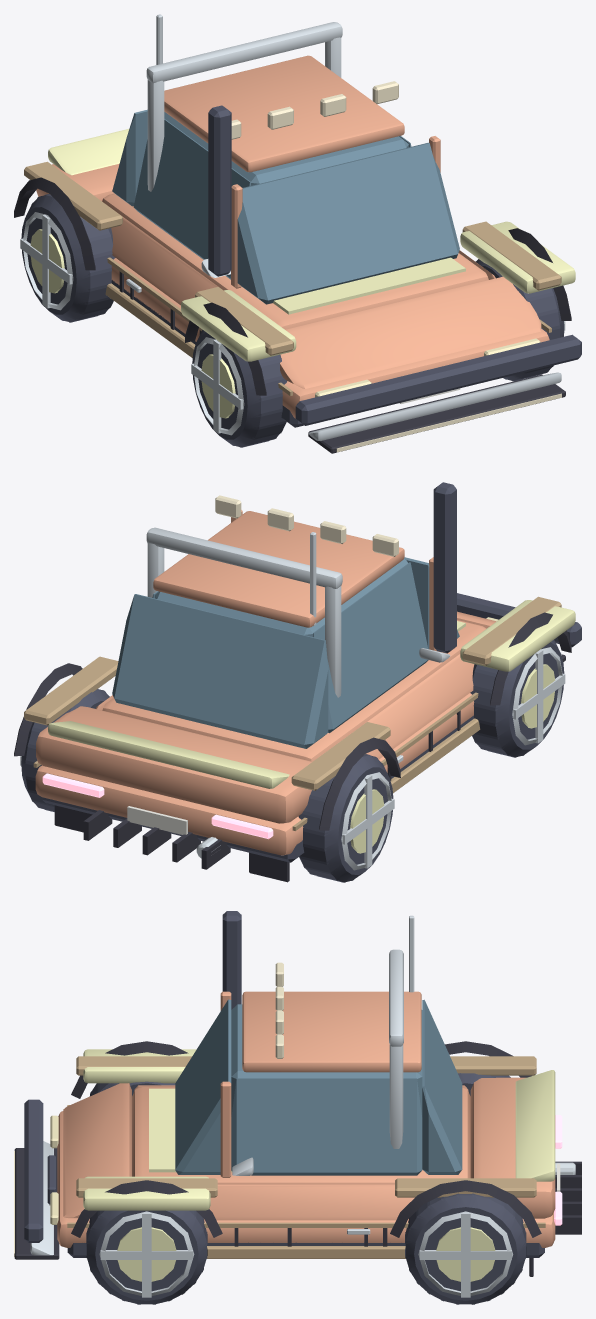
The model's file is redclay_runner.fbx.
The picture shows the model from 3 angles, top to bottom: view 1: azimuth 30°, elevation 25°; view 2: azimuth 150°, elevation 25°; view 3: azimuth 270°, elevation 25°; orthographic projection. The views are drawn at different scales.
Visible parts, largest first — view 1: Body, Glass, Trim2, Accent3, Accent2, Accent, Trim, Wheel_RR, Wheel_FR, Metal, Light, Metal2 (+2 smaller); view 2: Body, Glass, Accent, Trim, Accent3, Accent2, Trim2, Wheel_RR, Metal, Wheel_FR, Metal2, Light (+3 smaller); view 3: Body, Glass, Accent3, Accent, Trim, Wheel_RL, Metal, Trim2, Wheel_FL, Accent2, Metal2, Light (+2 smaller).
Boxes of the visible parts, bbox=[...] form: Body: bbox=[36, 55, 549, 418]; Glass: bbox=[112, 109, 459, 304]; Trim2: bbox=[111, 105, 581, 427]; Accent3: bbox=[48, 129, 575, 361]; Accent2: bbox=[146, 14, 561, 440]; Accent: bbox=[24, 161, 561, 395]; Trim: bbox=[14, 177, 571, 453]; Wheel_RR: bbox=[21, 194, 115, 322]; Wheel_FR: bbox=[192, 329, 287, 447]; Metal: bbox=[20, 212, 565, 435]; Light: bbox=[231, 81, 561, 452]; Metal2: bbox=[30, 229, 235, 418]; Body: bbox=[35, 510, 496, 855]; Glass: bbox=[112, 557, 459, 748]; Accent: bbox=[24, 596, 561, 830]; Trim: bbox=[14, 612, 571, 882]; Accent3: bbox=[48, 600, 575, 788]; Accent2: bbox=[146, 527, 561, 697]; Trim2: bbox=[40, 482, 581, 862]; Wheel_RR: bbox=[298, 754, 393, 882]; Metal: bbox=[20, 647, 565, 870]; Wheel_FR: bbox=[470, 640, 564, 757]; Metal2: bbox=[350, 664, 555, 853]; Light: bbox=[215, 495, 398, 556]; Body: bbox=[57, 991, 555, 1247]; Glass: bbox=[175, 999, 462, 1175]; Accent3: bbox=[83, 1049, 555, 1210]; Accent: bbox=[67, 1056, 545, 1258]; Trim: bbox=[14, 1041, 581, 1276]; Wheel_RL: bbox=[405, 1193, 526, 1304]; Metal: bbox=[99, 1162, 575, 1297]; Trim2: bbox=[24, 911, 544, 1257]; Wheel_FL: bbox=[86, 1210, 207, 1304]; Accent2: bbox=[30, 915, 414, 1255]; Metal2: bbox=[117, 1227, 495, 1281]; Light: bbox=[14, 962, 283, 1256].
Size of the model in its own units: 3.36 by 2.97 by 5.36.
